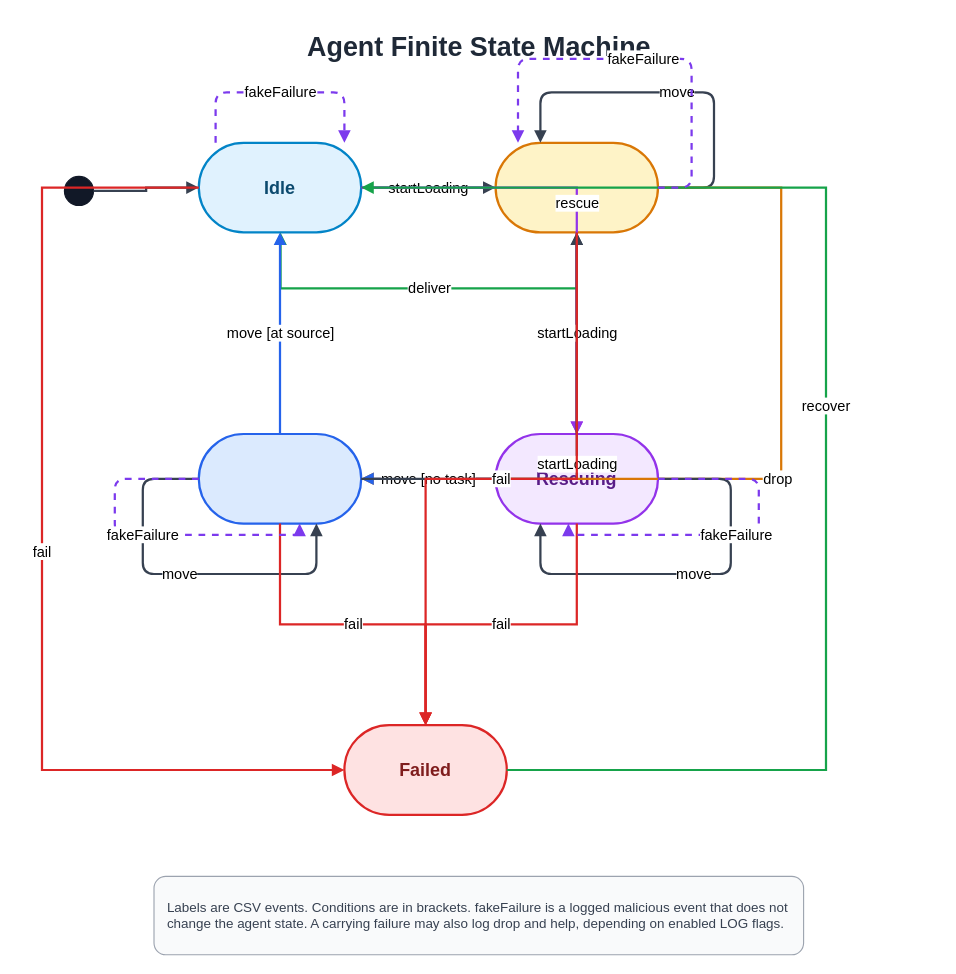
Some shapes in this 956 by 974 pixel diagram are drawn without their labels. The centre of each missing label's shape, as x and y in pixels:
"Carrying" belongs at (576,187).
"Returning" belongs at (279,478).
